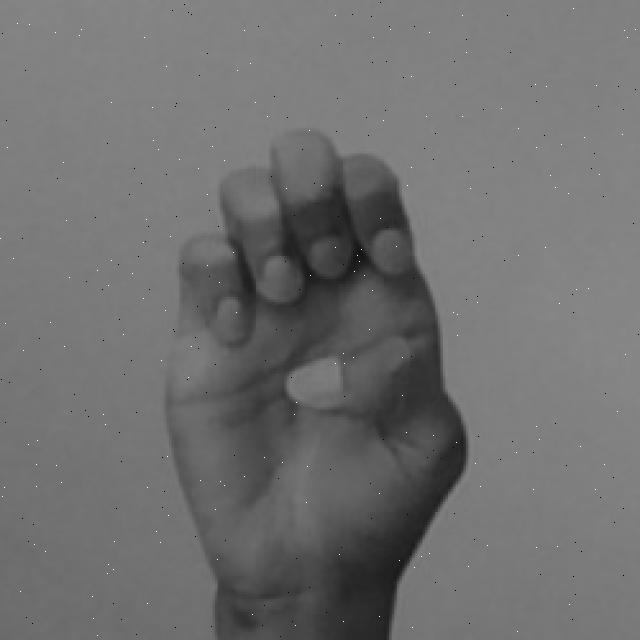E: (161, 124, 473, 640)
